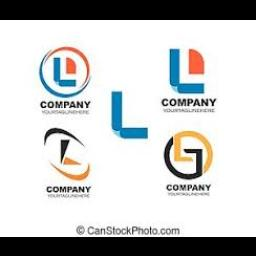l: (106, 86, 154, 144), (58, 138, 84, 168), (172, 132, 194, 166)
